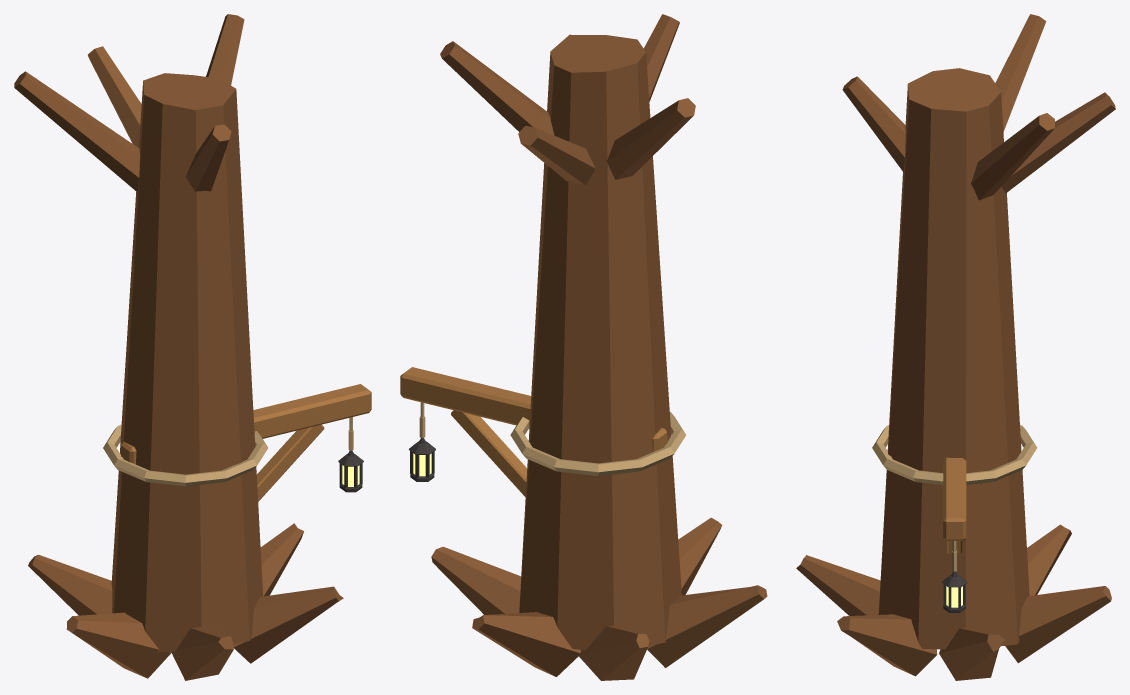
Rendered from mod_treehouse_support.glb.
3 views of the same model, side by side, from view 1: azimuth 30°, elevation 25°; view 2: azimuth 150°, elevation 25°; view 3: azimuth 270°, elevation 25° (orthographic). The views are drawn at different scales.
Parts seen in each view (by area): view 1: mod_treehouse_support, part_hanging_lantern; view 2: mod_treehouse_support, part_hanging_lantern; view 3: mod_treehouse_support, part_hanging_lantern.
Part boxes in pixels (x1,y1,x2,y2): mod_treehouse_support: (14,14,371,680); part_hanging_lantern: (338,450,363,492); mod_treehouse_support: (400,14,767,680); part_hanging_lantern: (409,438,435,481); mod_treehouse_support: (796,14,1115,680); part_hanging_lantern: (942,571,967,612).
Size of the model in its own units: 2.9 by 5.05 by 2.51.
